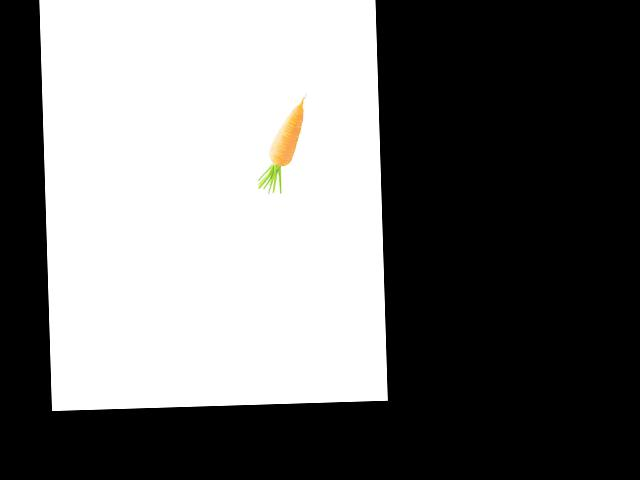carrot: (264, 93, 308, 155)
